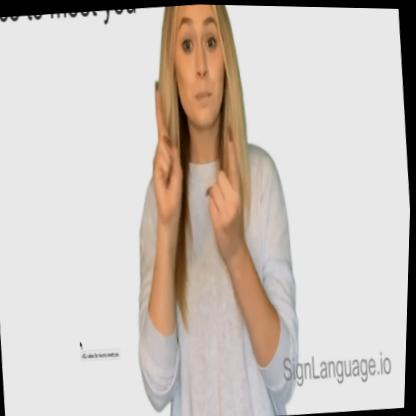NiceToMeetYou: (142, 73, 259, 264)
